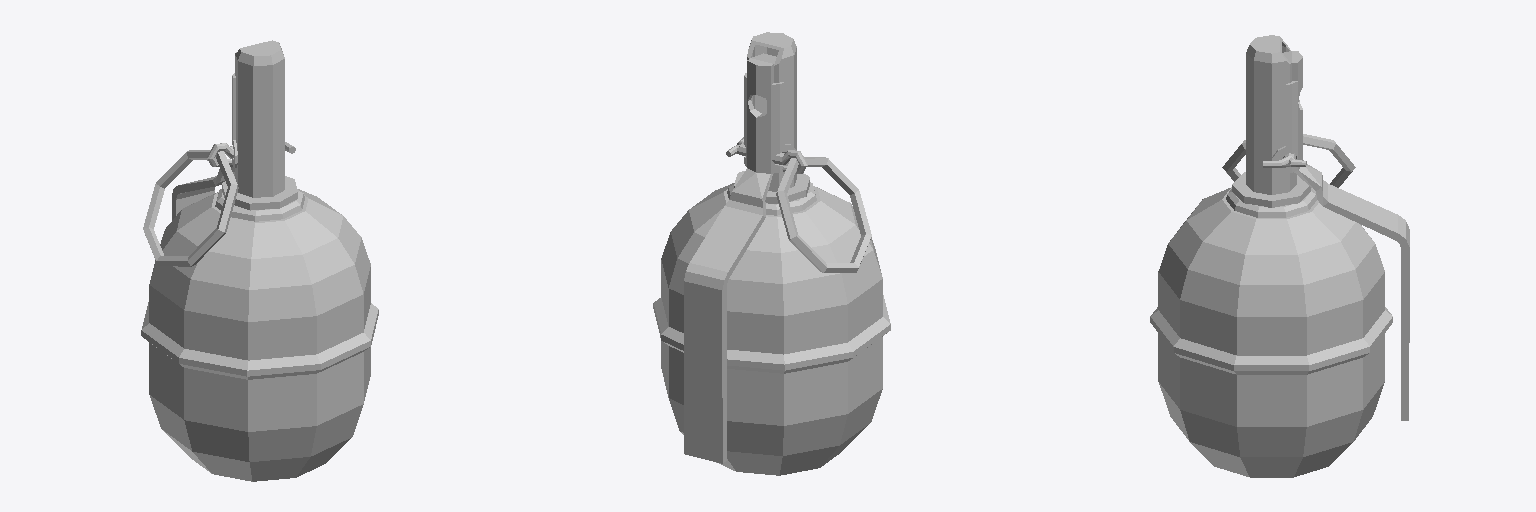
File: RGD-5 Grenade 1.obj
3 renders of one model, left to right at view 1: azimuth 30°, elevation 25°; view 2: azimuth 150°, elevation 25°; view 3: azimuth 270°, elevation 25°, orthographic.
Parts seen in each view (by area): view 1: RGD-5_Grenade_1, RGD-5_Grenade_1_Safety_Pin_Handle_1, RGD-5_Grenade_1_Pin_1; view 2: RGD-5_Grenade_1, RGD-5_Grenade_1_Pin_1, RGD-5_Grenade_1_Safety_Pin_Handle_1, RGD-5_Grenade_1_Safety_Pin_1; view 3: RGD-5_Grenade_1, RGD-5_Grenade_1_Pin_1, RGD-5_Grenade_1_Safety_Pin_Handle_1.
Boxes of the visible parts, box(x1,y1,x2,y2) form: RGD-5_Grenade_1: box(141, 40, 378, 481); RGD-5_Grenade_1_Safety_Pin_Handle_1: box(143, 150, 238, 266); RGD-5_Grenade_1_Pin_1: box(172, 52, 237, 219); RGD-5_Grenade_1: box(653, 32, 890, 475); RGD-5_Grenade_1_Pin_1: box(684, 53, 796, 463); RGD-5_Grenade_1_Safety_Pin_Handle_1: box(776, 157, 871, 272); RGD-5_Grenade_1_Safety_Pin_1: box(726, 137, 807, 173); RGD-5_Grenade_1: box(1150, 35, 1392, 477); RGD-5_Grenade_1_Pin_1: box(1272, 51, 1409, 420); RGD-5_Grenade_1_Safety_Pin_Handle_1: box(1222, 134, 1355, 187).
Size of the model in its own units: 0.0914 by 0.1849 by 0.1026.